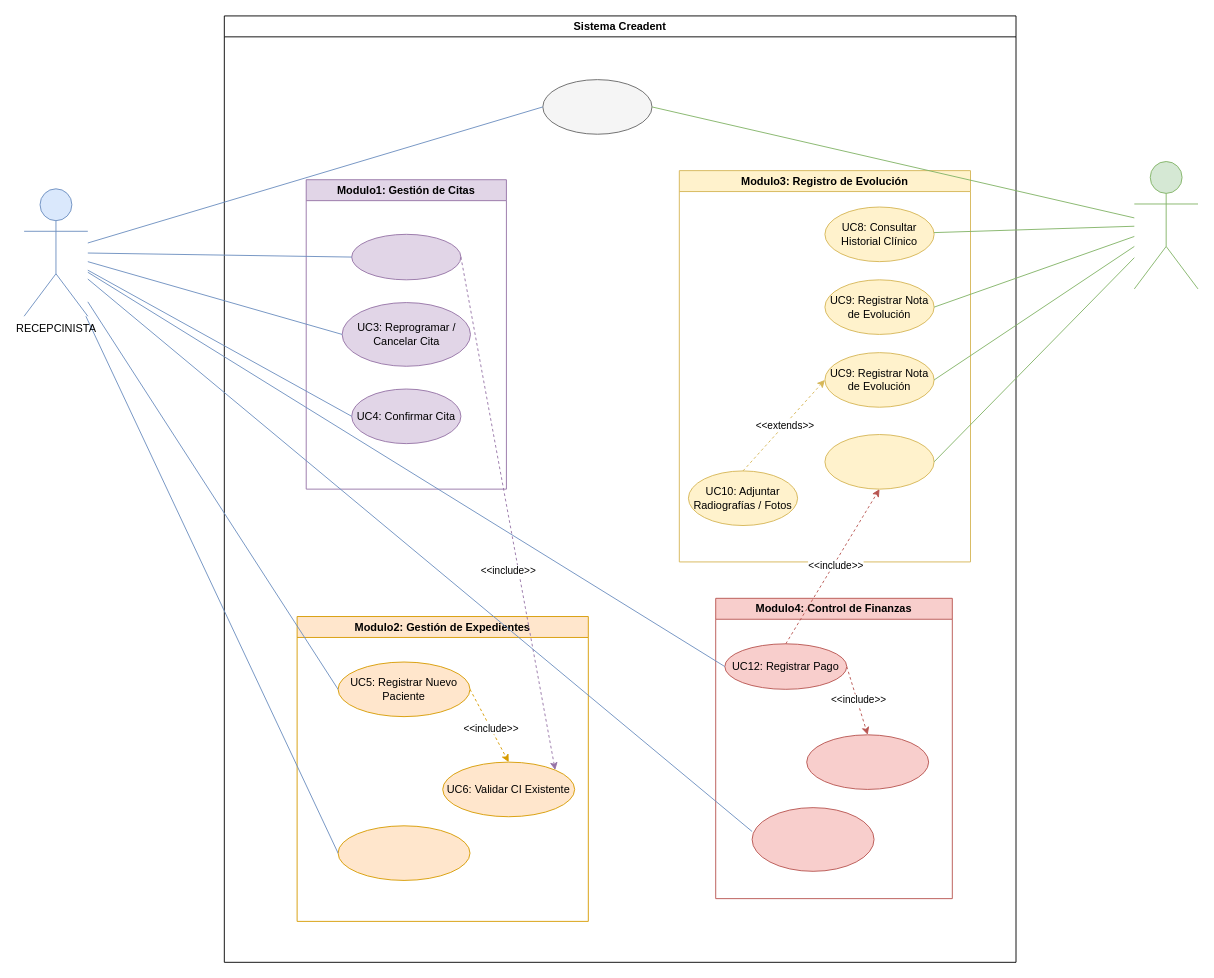
Image size: 1214x978. Some labels were removed from this diagram. Each missing label, with the centre of its shape:
"DOCTOR" goes at [1165,225].
"UC11: Asignar Tratamientos a Cobrar" goes at [879,461].
"UC13: Generar Recibo Interno" goes at [867,761].
"UC14: Generar Reporte de Ingresos" goes at [812,839].
"UC1: Autenticarse" goes at [597,106].
"UC2: Registrar Cita" goes at [406,256].
"UC7: Actualizar Datos Médicos" goes at [403,852].
